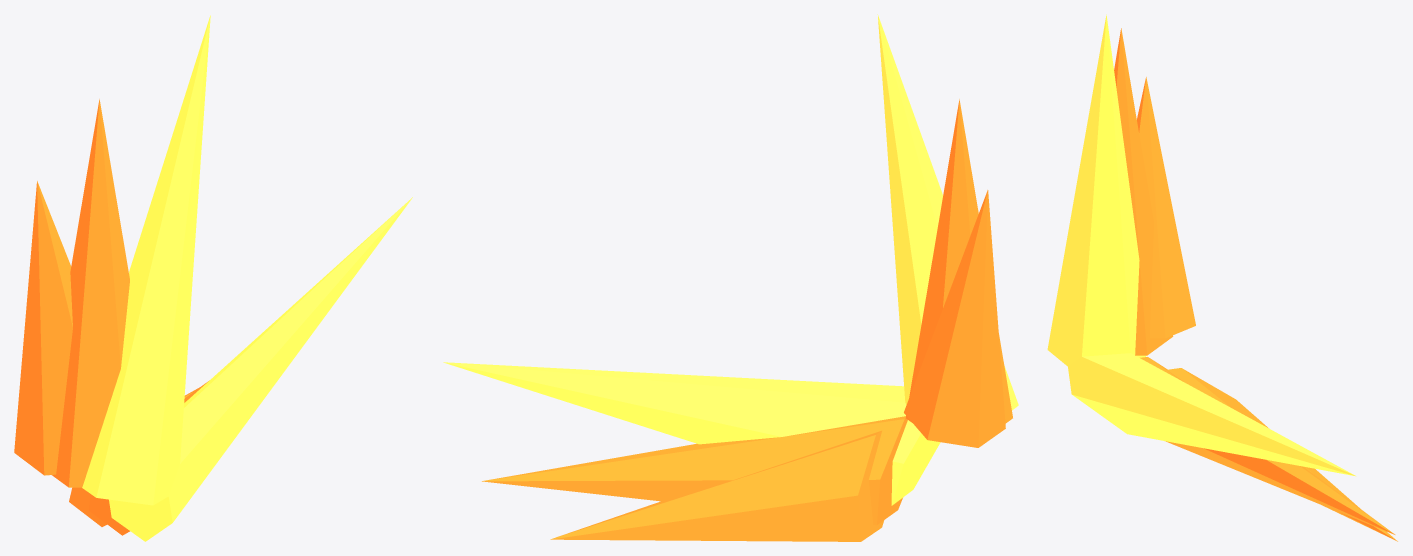
File: SM_Keeper_Seraphs_Flame1.fbx
3 renders of one model, left to right at view 1: azimuth 30°, elevation 25°; view 2: azimuth 150°, elevation 25°; view 3: azimuth 270°, elevation 25°, orthographic. The views are drawn at different scales.
Visible parts, largest first — view 1: SM_Keeper_Seraphs_Flame1; view 2: SM_Keeper_Seraphs_Flame1; view 3: SM_Keeper_Seraphs_Flame1.
Boxes of the visible parts, x1=… form: SM_Keeper_Seraphs_Flame1: x1=14, y1=15, x2=412, y2=541; SM_Keeper_Seraphs_Flame1: x1=443, y1=14, x2=1018, y2=541; SM_Keeper_Seraphs_Flame1: x1=1047, y1=14, x2=1397, y2=541.
Size of the model in its own units: 1.52 by 1.54 by 1.08.
